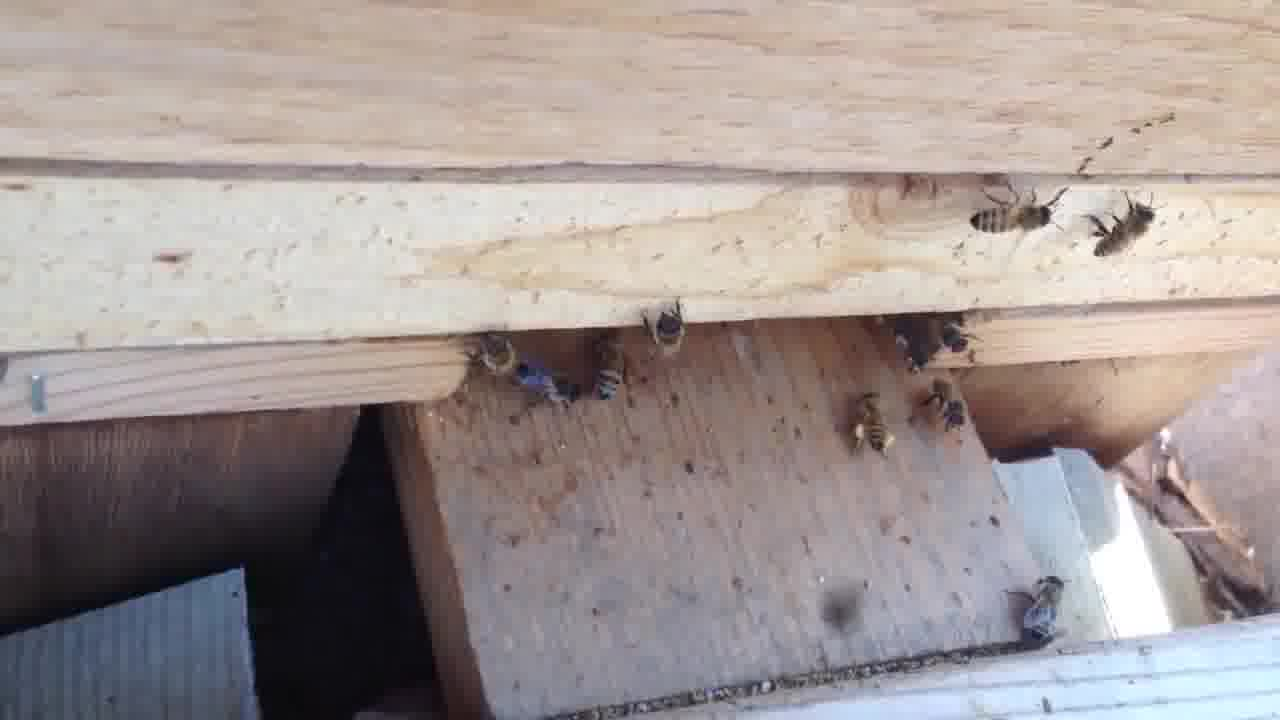pollen: (848, 389, 900, 458)
